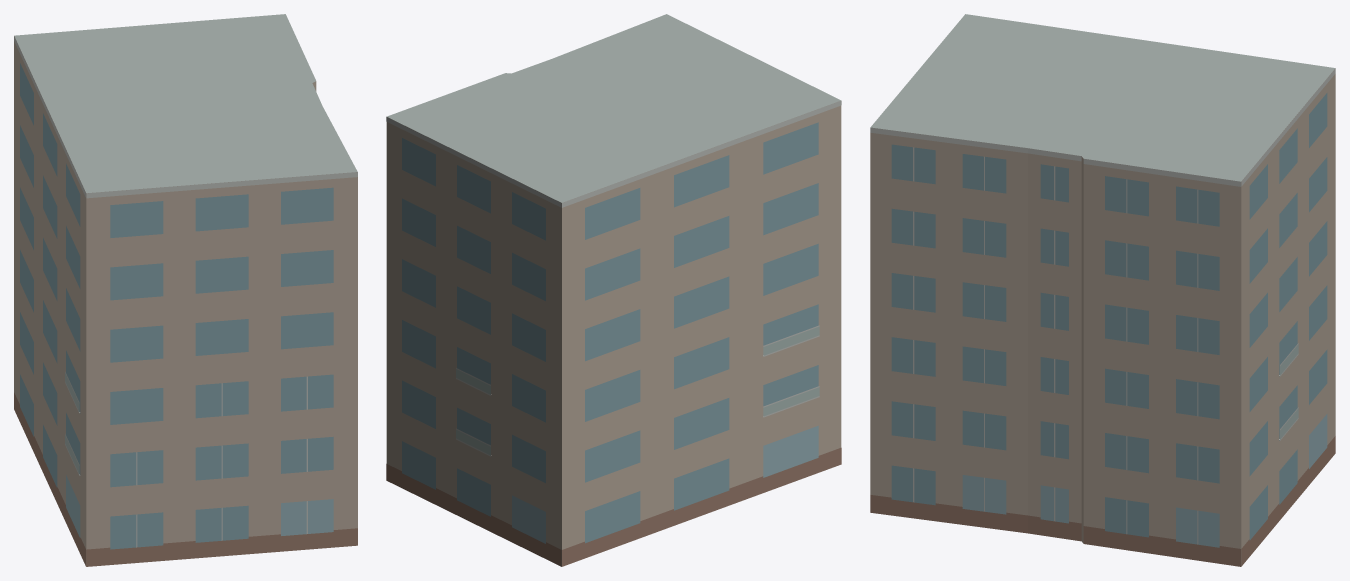
The model's file is survey-upis-32881402.glb.
3 renders of one model, left to right at view 1: azimuth 30°, elevation 25°; view 2: azimuth 150°, elevation 25°; view 3: azimuth 270°, elevation 25°, orthographic. The views are drawn at different scales.
Parts seen in each view (by area): view 1: survey-upis-32881402.tmp; view 2: survey-upis-32881402.tmp; view 3: survey-upis-32881402.tmp.
Part boxes in pixels (<box>): survey-upis-32881402.tmp: <box>14,14,357,566</box>; survey-upis-32881402.tmp: <box>386,14,841,566</box>; survey-upis-32881402.tmp: <box>870,14,1335,566</box>.
Size of the model in its own units: 16.62 by 17.8 by 19.5.
